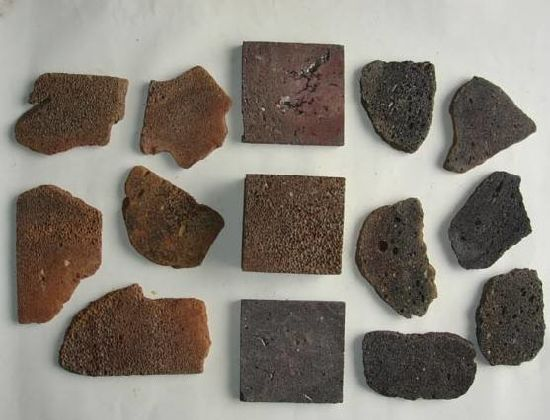volcanic_rock: (67, 280, 214, 384), (114, 159, 228, 283), (235, 294, 345, 409), (4, 59, 134, 155), (240, 37, 347, 153), (7, 178, 103, 301), (356, 195, 445, 323), (240, 171, 347, 277), (354, 321, 482, 406), (140, 63, 229, 167), (449, 70, 538, 173), (354, 55, 439, 162), (471, 274, 547, 370), (445, 183, 529, 267)
